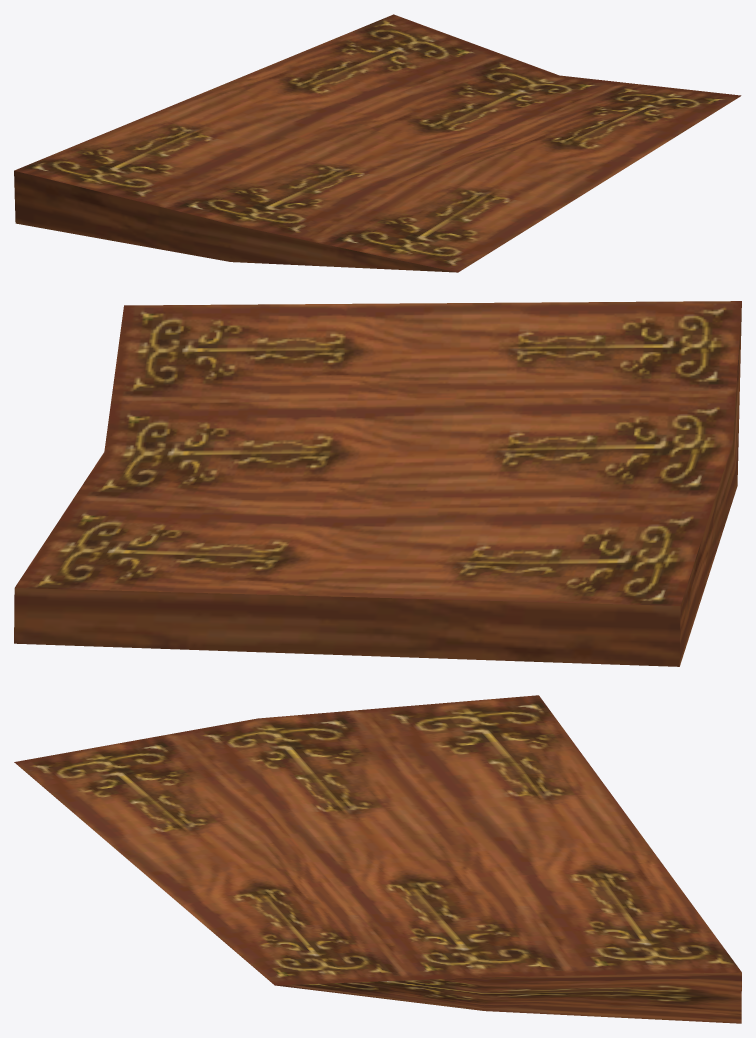
The model's file is EKH_THRONE_PS_TH_THRONE_STEP_02.fbx.
3 renders of one model, top to bottom at view 1: azimuth 30°, elevation 25°; view 2: azimuth 150°, elevation 25°; view 3: azimuth 270°, elevation 25°, orthographic. The views are drawn at different scales.
Visible parts, largest first — view 1: EKH_THRONE_PS_TH_THRONE_STEP_02; view 2: EKH_THRONE_PS_TH_THRONE_STEP_02; view 3: EKH_THRONE_PS_TH_THRONE_STEP_02.
Boxes of the visible parts, x1,y1,x2,y2 form: EKH_THRONE_PS_TH_THRONE_STEP_02: (14, 14, 741, 272); EKH_THRONE_PS_TH_THRONE_STEP_02: (14, 301, 741, 666); EKH_THRONE_PS_TH_THRONE_STEP_02: (14, 695, 741, 1023).
Size of the model in its own units: 14314 by 2510 by 14169.
Materials: 1 (1 with a texture image).
